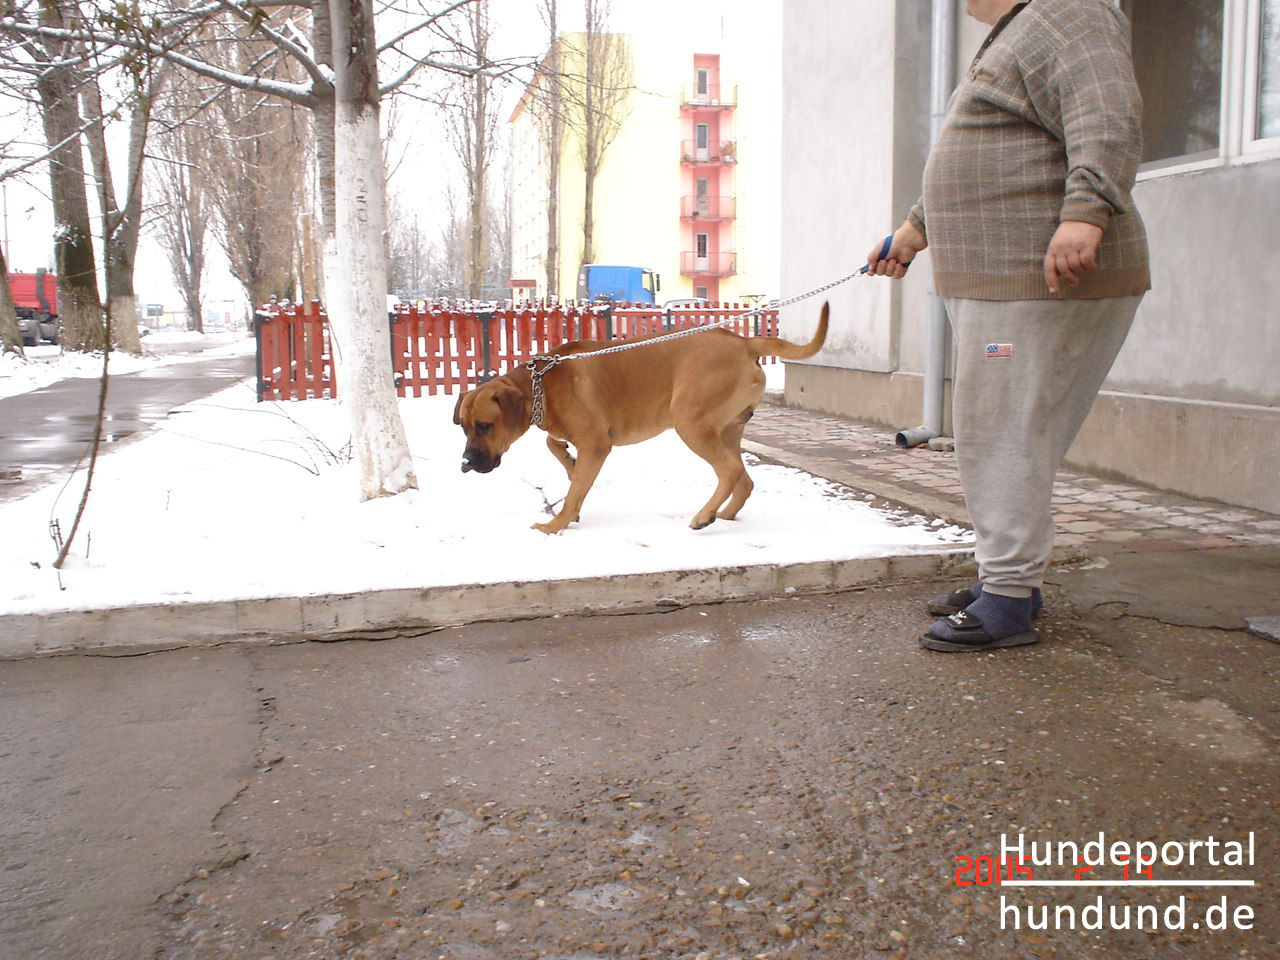person: (863, 0, 1152, 653)
tosa_inu: (452, 300, 831, 536)
